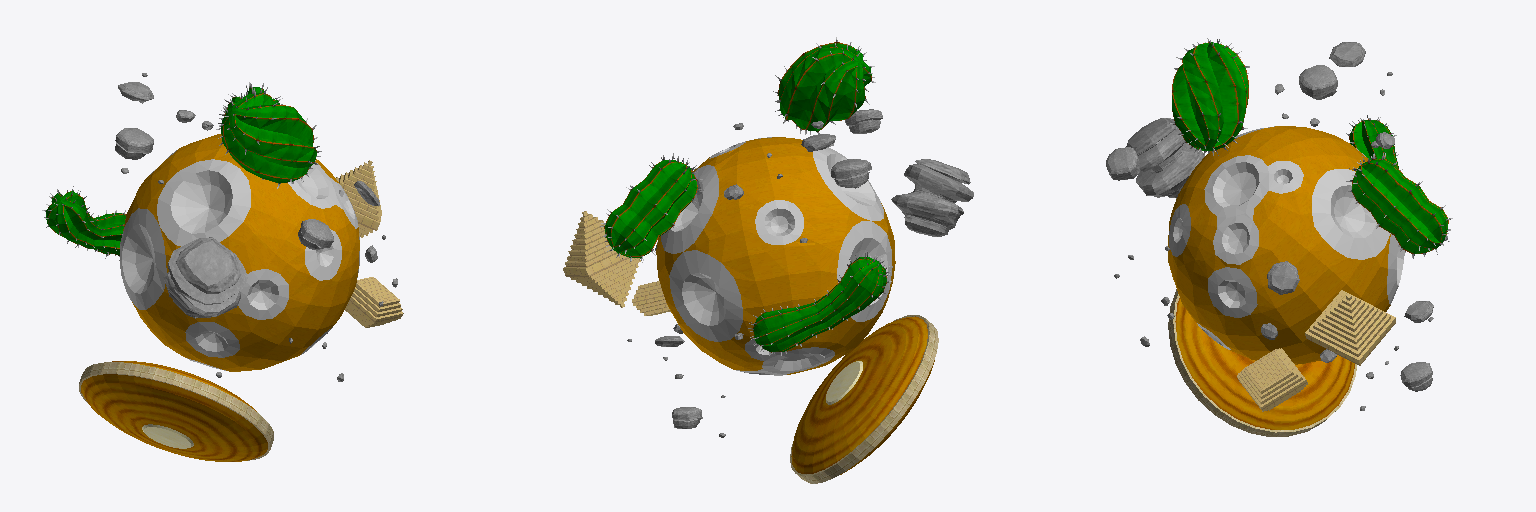
3 views of the same model, side by side, from view 1: azimuth 30°, elevation 25°; view 2: azimuth 150°, elevation 25°; view 3: azimuth 270°, elevation 25° (orthographic).
Visible parts, largest first — view 1: m9, m8, m7, m3, m1, m2, m0, m5, m6, m4; view 2: m9, m3, m8, m7, m1, m0, m5, m2, m4, m6; view 3: m9, m8, m3, m7, m0, m1, m2, m5, m4.
Boxes of the visible parts, <box> form: m9: <box>123,134,359,371</box>; m8: <box>119,150,359,370</box>; m7: <box>81,361,267,461</box>; m3: <box>46,87,316,255</box>; m1: <box>115,83,397,381</box>; m2: <box>119,73,397,380</box>; m0: <box>336,160,403,327</box>; m5: <box>79,362,273,460</box>; m6: <box>142,424,193,448</box>; m4: <box>42,82,321,258</box>; m9: <box>656,137,895,374</box>; m3: <box>604,42,886,352</box>; m8: <box>661,137,892,375</box>; m7: <box>791,316,934,474</box>; m1: <box>655,110,973,428</box>; m0: <box>563,211,670,315</box>; m5: <box>790,315,938,483</box>; m2: <box>627,109,973,437</box>; m4: <box>600,37,891,355</box>; m6: <box>826,361,862,404</box>; m9: <box>1168,126,1390,364</box>; m8: <box>1169,126,1404,349</box>; m3: <box>1172,42,1448,253</box>; m7: <box>1175,298,1354,429</box>; m0: <box>1237,290,1395,411</box>; m1: <box>1106,42,1447,391</box>; m2: <box>1108,43,1433,410</box>; m5: <box>1168,289,1356,436</box>; m4: <box>1169,38,1452,258</box>.
Size of the model in its own units: 56.26 by 64.29 by 51.23.
10 materials, 9 textured.